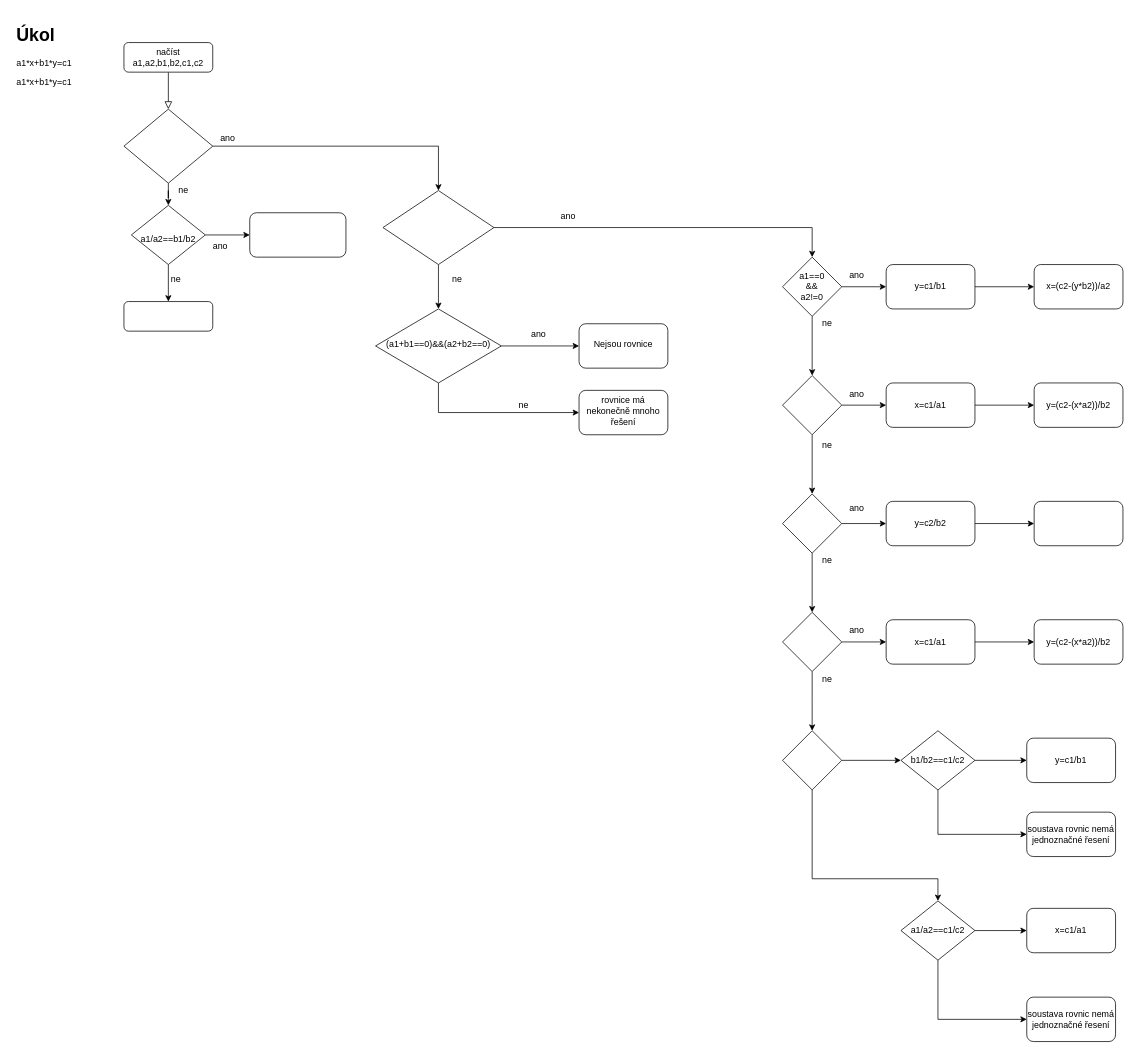
Image size: 1136x1055. Some labels were removed from this diagram. The shapes that lost their labels are listed below. From the top down, each one's centre as x and y in pixels, then its label:
At [168,145]: "a1==0|| a2==0|| b1==0|| b2==0".
At [297,234]: "rovnice nemá řešení".
At [438,227]: "(a1+b1!=0)&&(a2+b2!=0)".
At [168,316]: "Repair Lamp".
At [812,405]: "b1==0 && b2!=0".
At [812,523]: "a2==0 && a1!=0".
At [1078,523]: "x=(c1-(y*b1))/a1".
At [812,642]: "b2==0 && b1!=0".
At [812,760]: "a1==0 && a2==0".
